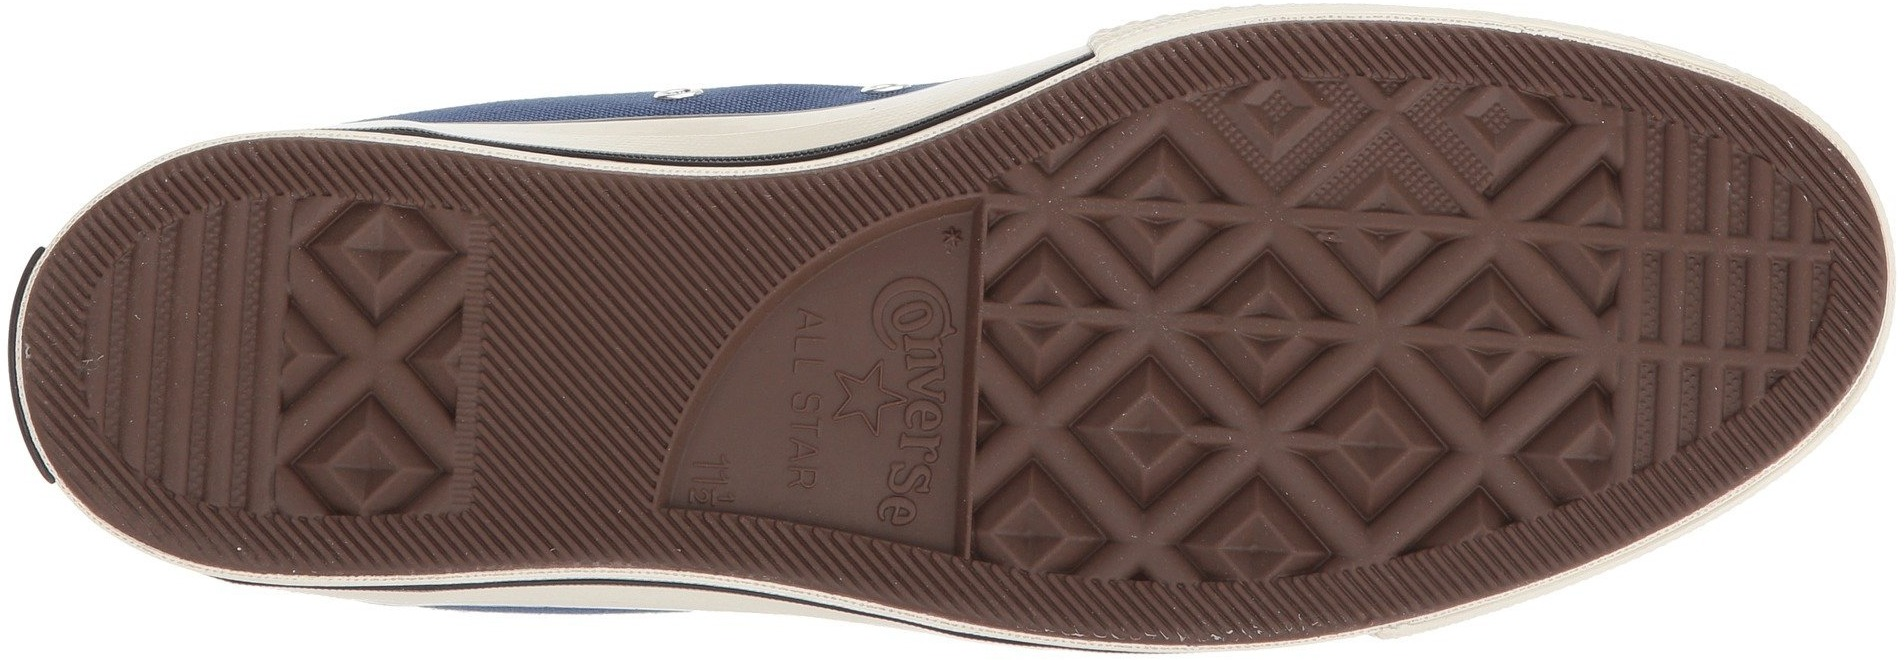other: (498, 173, 708, 362), (481, 372, 654, 518)
quad: (1617, 195, 1800, 366), (110, 274, 257, 436)
text: (790, 302, 958, 493), (686, 453, 752, 510)
